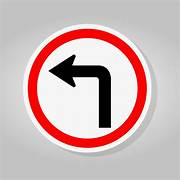left: (22, 23, 151, 152)
